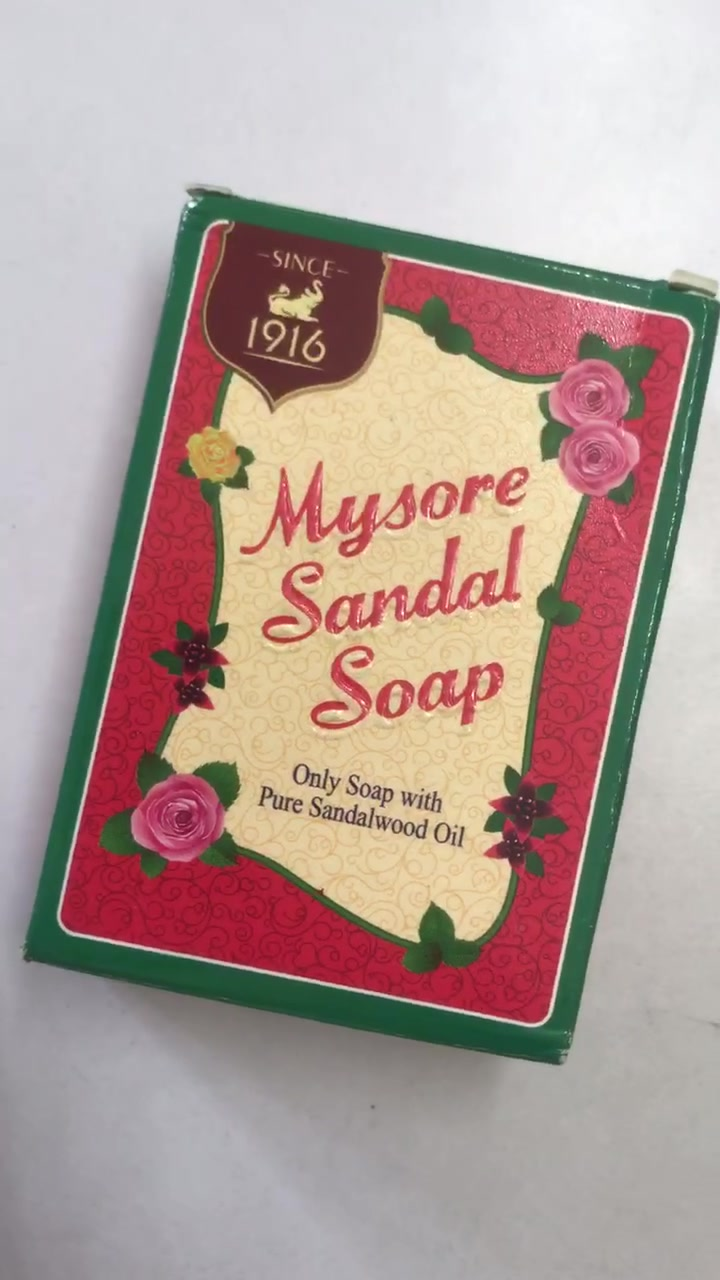mysore sandal soap: (21, 192, 720, 1064)
